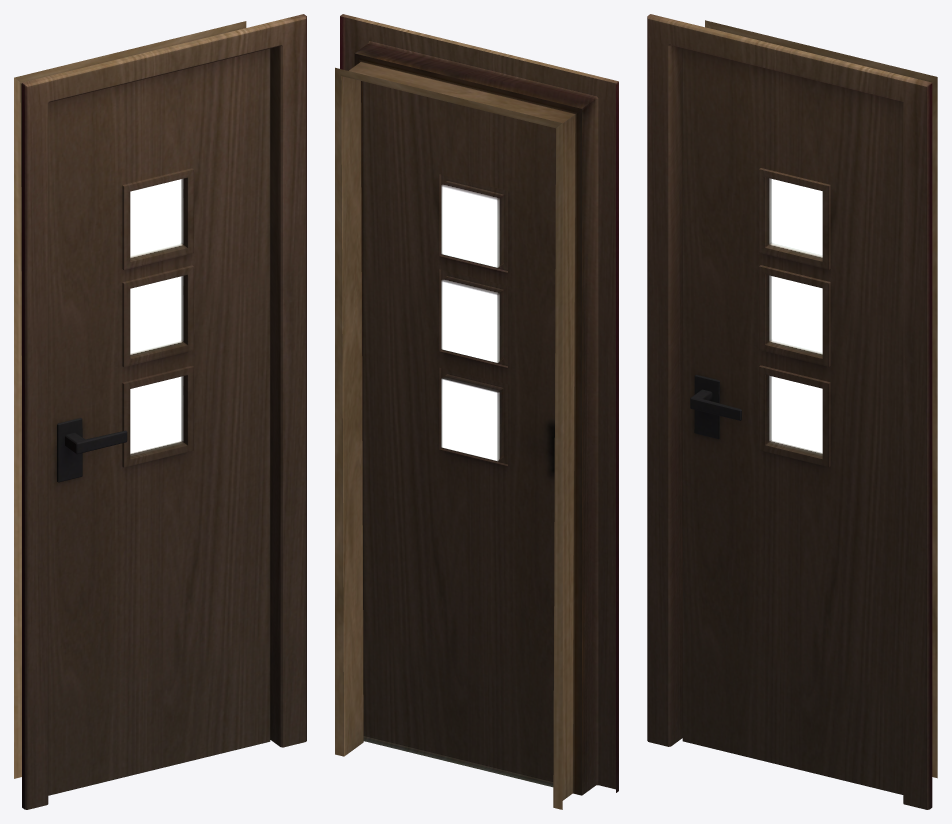
Rendered from puerta_de_madera.glb.
The picture shows the model from 3 angles, left to right: view 1: azimuth 30°, elevation 25°; view 2: azimuth 150°, elevation 25°; view 3: azimuth 330°, elevation 25°; orthographic projection. The views are drawn at different scales.
Visible parts, largest first — view 1: Object_3; view 2: Object_3; view 3: Object_3.
Part boxes in pixels (box(x1,y1,x2,y2)): Object_3: box(14, 14, 306, 809); Object_3: box(335, 14, 618, 809); Object_3: box(647, 14, 937, 809).
Bounding box in the file's own units: 1.8 × 4.43 × 0.4315.
1 material, 1 textured.
